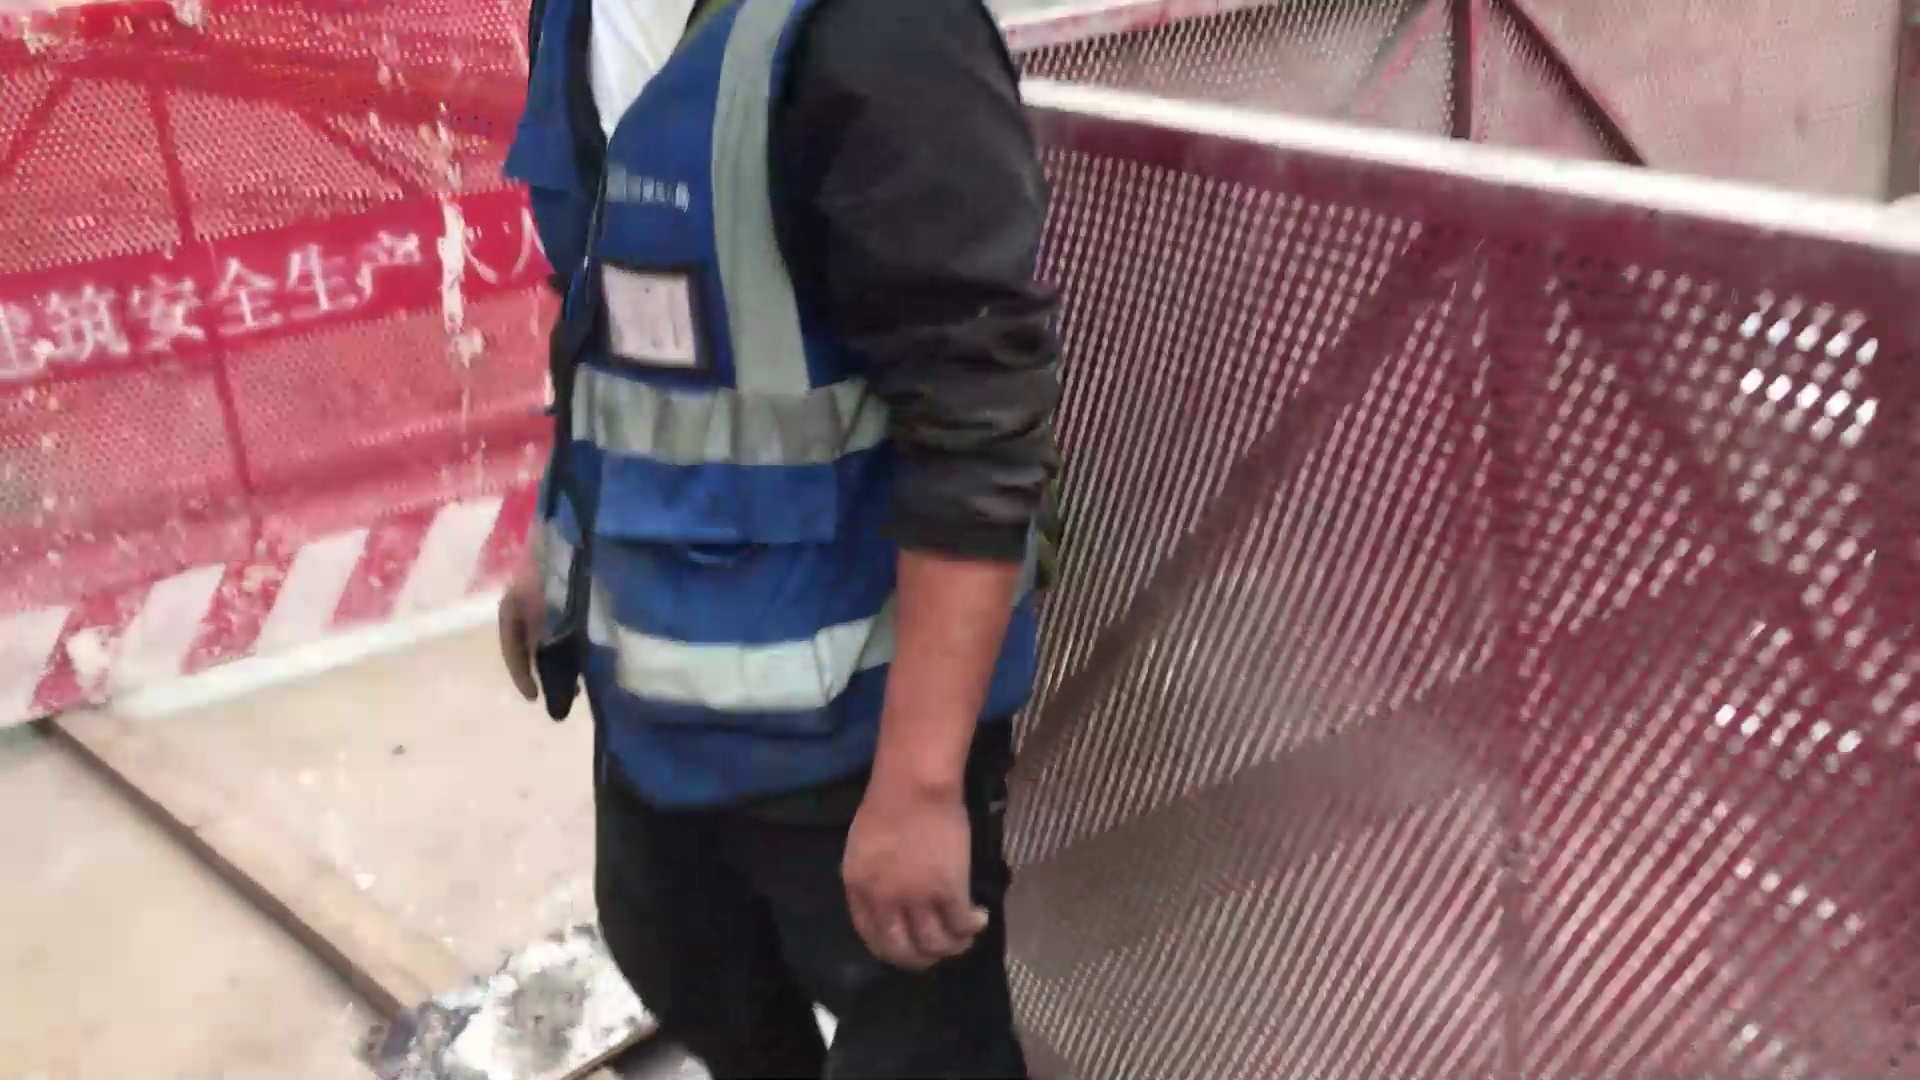fence: (1107, 108, 1906, 1080), (1, 1, 515, 709)
person: (486, 1, 1065, 1080)
slogan: (1, 201, 519, 413)
vest: (523, 1, 1054, 827)
